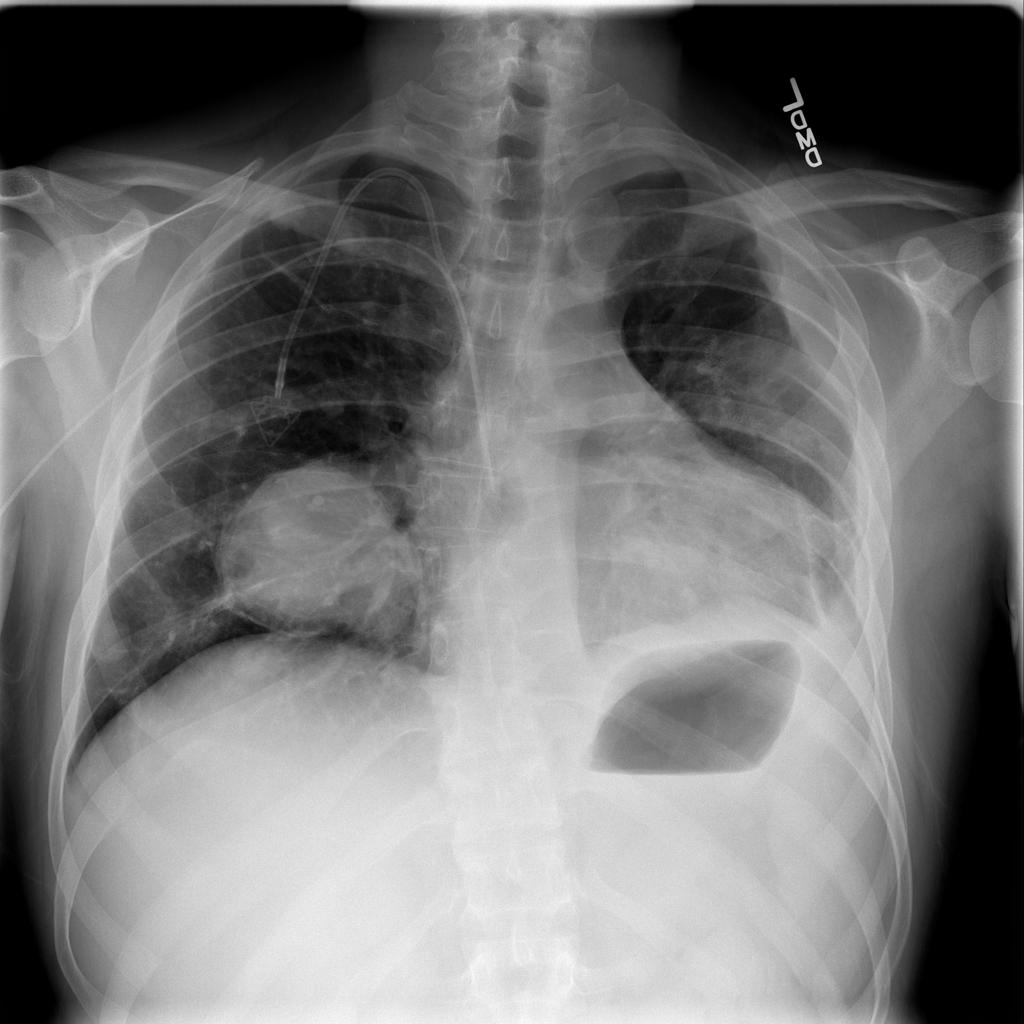nodule: (232, 451, 446, 650), (205, 633, 304, 696), (77, 598, 146, 676)
